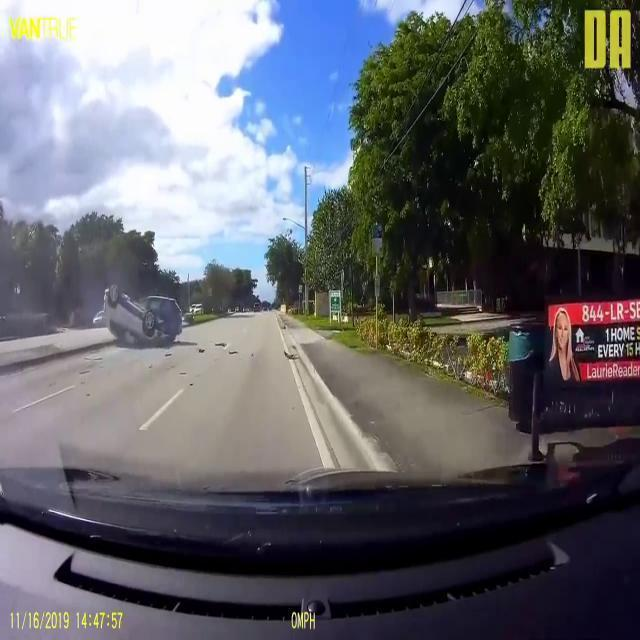accident: (94, 284, 184, 348)
